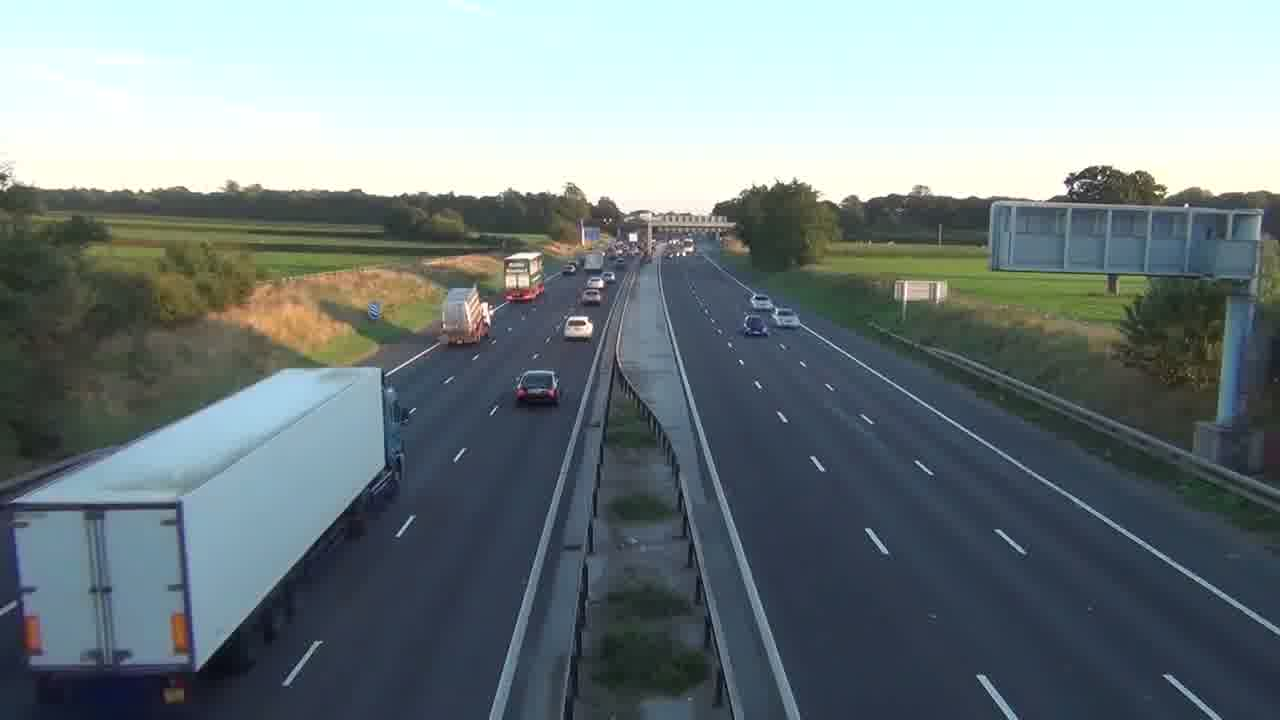bus: (503, 251, 545, 304)
car: (513, 368, 561, 405), (563, 315, 593, 341), (775, 306, 800, 327)
